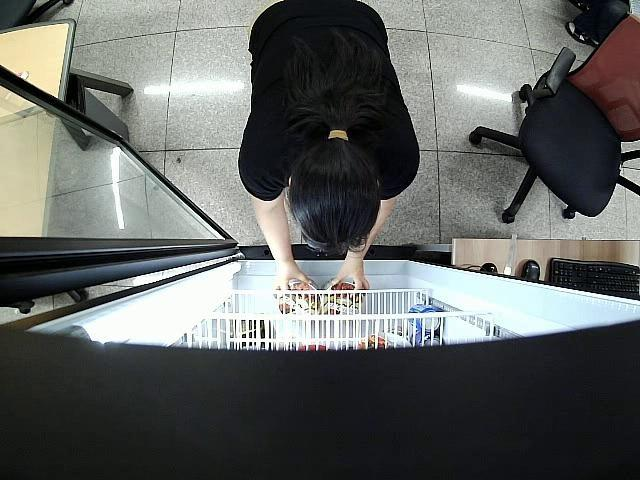03_chapagetti_L: (278, 280, 320, 316), (324, 282, 364, 316)
